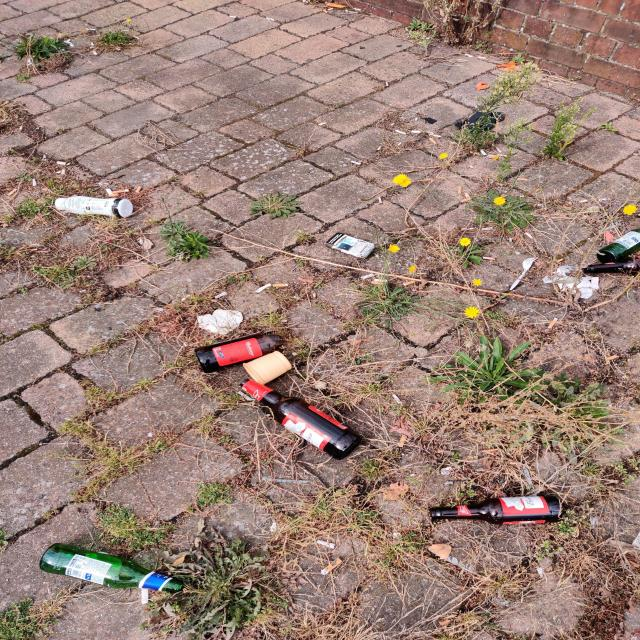litter: (238, 379, 363, 459), (429, 496, 564, 524), (194, 332, 284, 373), (95, 552, 183, 591), (244, 352, 293, 384), (325, 232, 375, 257), (197, 309, 245, 334), (510, 258, 538, 289), (96, 198, 133, 218), (320, 556, 342, 575), (256, 283, 272, 293), (317, 540, 335, 548), (398, 435, 408, 447), (214, 291, 228, 298), (392, 394, 402, 403), (271, 283, 288, 288), (394, 129, 407, 135), (112, 189, 131, 193), (494, 145, 503, 153), (361, 273, 373, 279), (479, 149, 487, 156), (135, 185, 143, 192), (482, 256, 495, 260), (515, 177, 528, 181), (429, 138, 437, 144), (105, 188, 113, 194), (350, 160, 361, 164), (476, 56, 487, 60), (377, 197, 383, 204), (317, 122, 326, 126), (429, 134, 441, 137), (321, 8, 328, 13), (229, 14, 237, 18), (109, 194, 119, 197), (411, 130, 420, 133), (489, 156, 498, 159), (385, 81, 389, 87), (375, 147, 381, 151), (353, 7, 361, 10), (458, 186, 461, 193), (398, 141, 401, 146), (327, 8, 333, 10)
